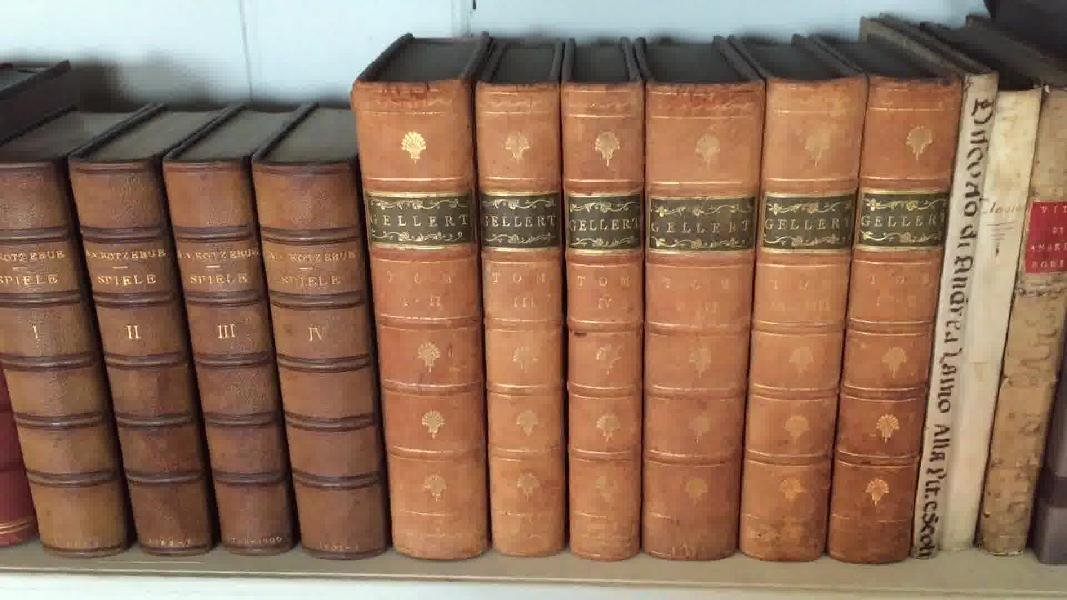Aa6-14_17: (5, 146, 400, 566)
Aa6-18_23: (336, 70, 962, 588)
Aa6-24: (913, 78, 986, 577)
Aa6-25: (944, 90, 1042, 600)
Aa6-26: (970, 85, 1067, 550)
